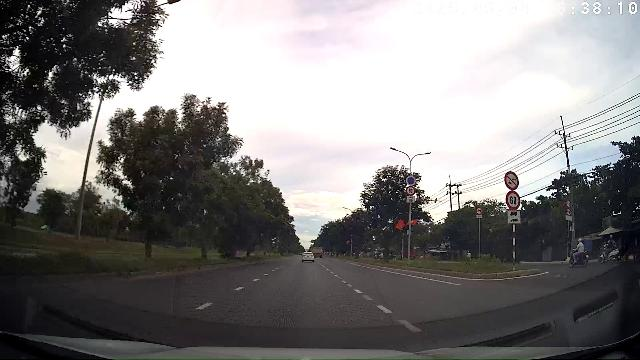127-toc-do-toi-da-60: (506, 191, 520, 209)
127-toc-do-toi-da-80: (405, 186, 415, 194)
